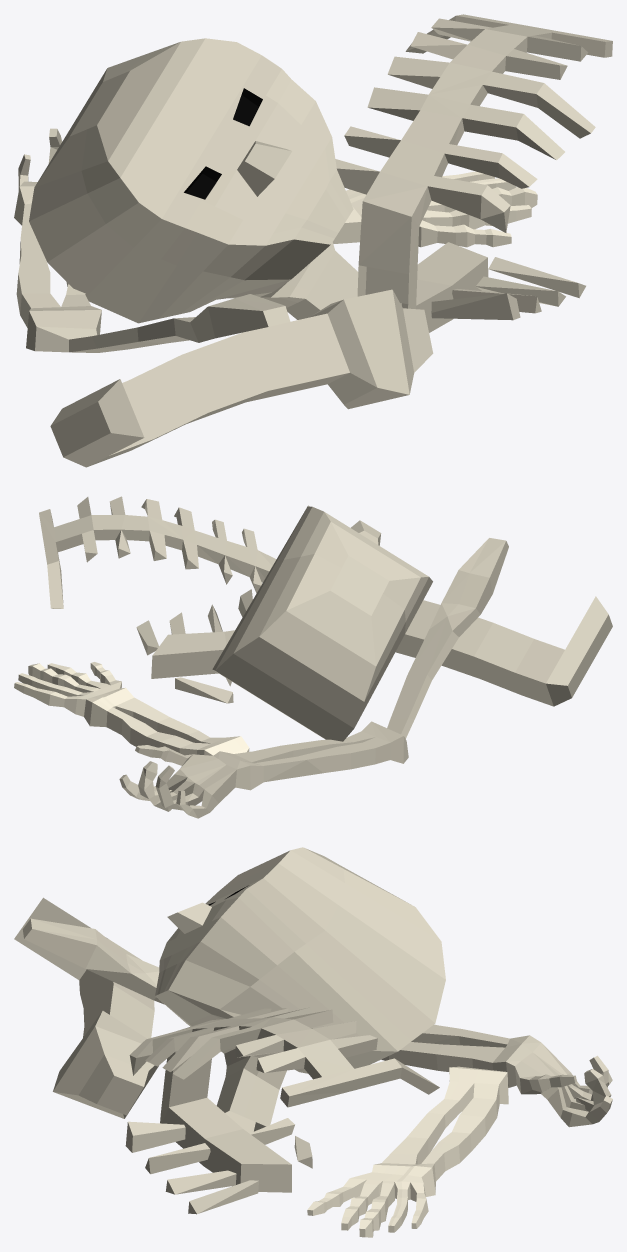
The model's file is pile w_o book.fbx.
The picture shows the model from 3 angles, top to bottom: view 1: azimuth 30°, elevation 25°; view 2: azimuth 150°, elevation 25°; view 3: azimuth 270°, elevation 25°; orthographic projection. The views are drawn at different scales.
Parts seen in each view (by area): view 1: head, Cube.002, leg_right, arm_right, arm_right.002; view 2: head, arm_right, Cube.002, leg_right, arm_right.002; view 3: head, Cube.002, arm_right, arm_right.002, leg_right.
Part boxes in pixels (x1,y1,x2,y2): head: [29, 38, 358, 323]; Cube.002: [335, 14, 612, 332]; leg_right: [50, 289, 433, 467]; arm_right: [14, 128, 290, 352]; arm_right.002: [333, 171, 537, 247]; head: [212, 505, 432, 741]; arm_right: [119, 538, 508, 818]; Cube.002: [39, 496, 276, 703]; leg_right: [395, 596, 612, 706]; arm_right.002: [14, 662, 249, 755]; head: [155, 847, 445, 1133]; Cube.002: [125, 1007, 439, 1214]; arm_right: [22, 918, 612, 1127]; arm_right.002: [307, 1066, 508, 1237]; leg_right: [14, 897, 158, 1118].
Size of the model in its own units: 129 by 57 by 123.
